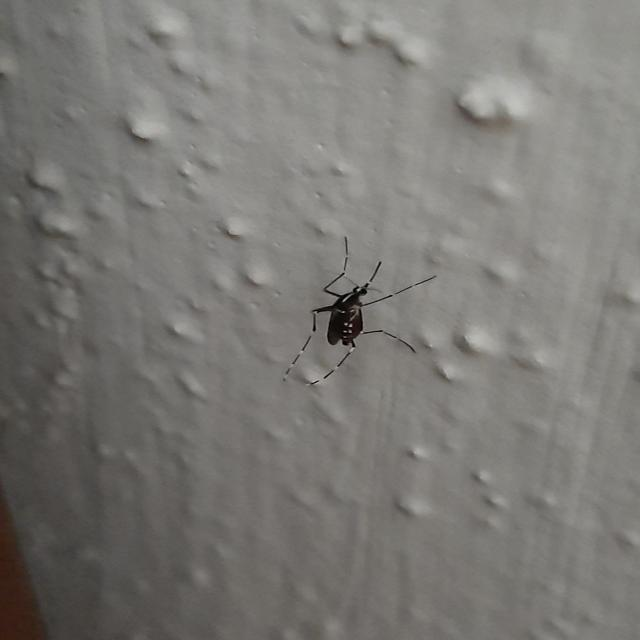albopictus: (268, 232, 442, 392)
